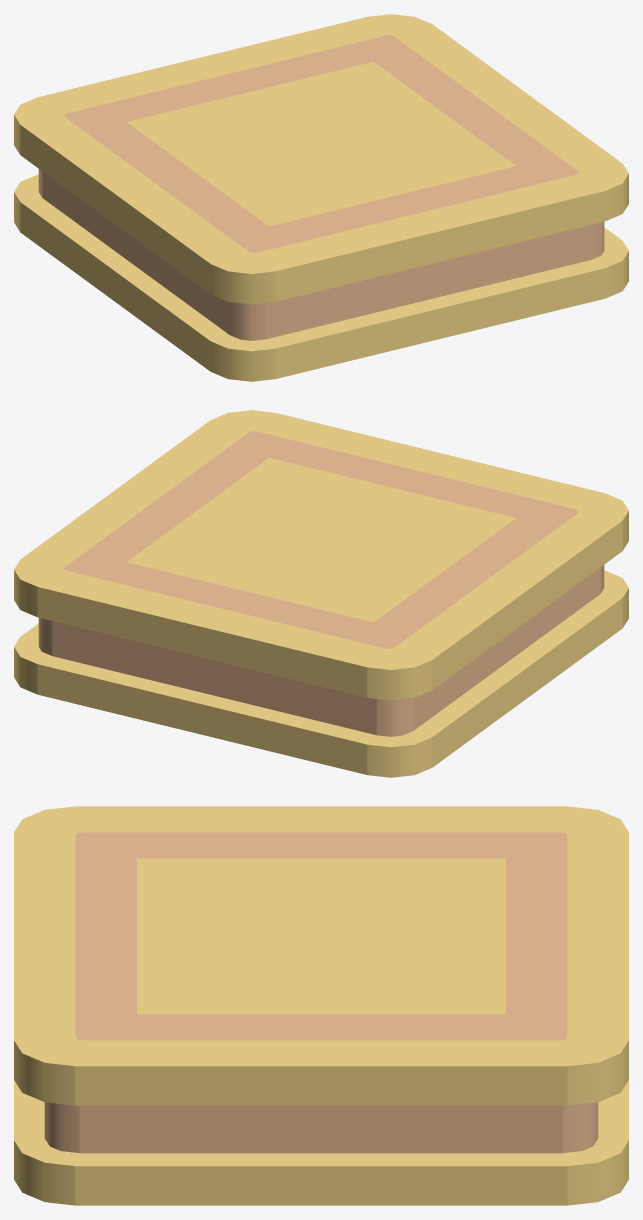
File: blockMoving.glb
3 renders of one model, top to bottom at view 1: azimuth 30°, elevation 25°; view 2: azimuth 150°, elevation 25°; view 3: azimuth 270°, elevation 25°, orthographic. The views are drawn at different scales.
Parts seen in each view (by area): view 1: blockMoving; view 2: blockMoving; view 3: blockMoving.
Boxes of the visible parts, <box> form: blockMoving: <box>14,14,628,381</box>; blockMoving: <box>14,410,628,777</box>; blockMoving: <box>14,806,628,1205</box>.
Size of the model in its own units: 1 by 0.25 by 1.
